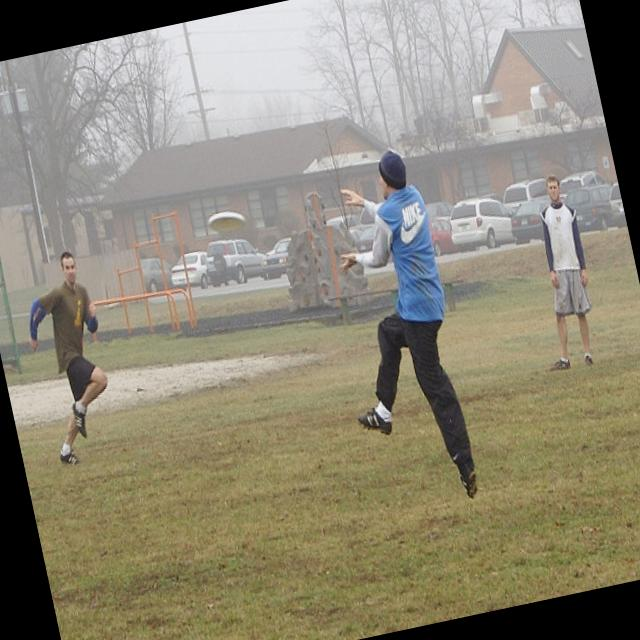Vehicle: (327, 134, 630, 298), (442, 190, 519, 256), (201, 230, 271, 288), (561, 180, 621, 238), (554, 162, 612, 204), (507, 200, 554, 244), (500, 175, 552, 213), (168, 250, 212, 292), (426, 213, 461, 257), (262, 236, 298, 278), (140, 254, 176, 292), (326, 212, 360, 235), (612, 184, 626, 226), (424, 198, 451, 218)
